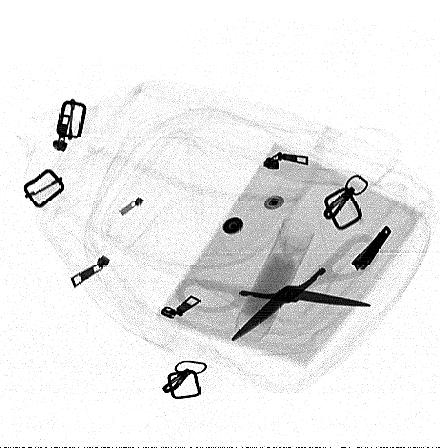Scissors: (172, 232, 379, 344)
